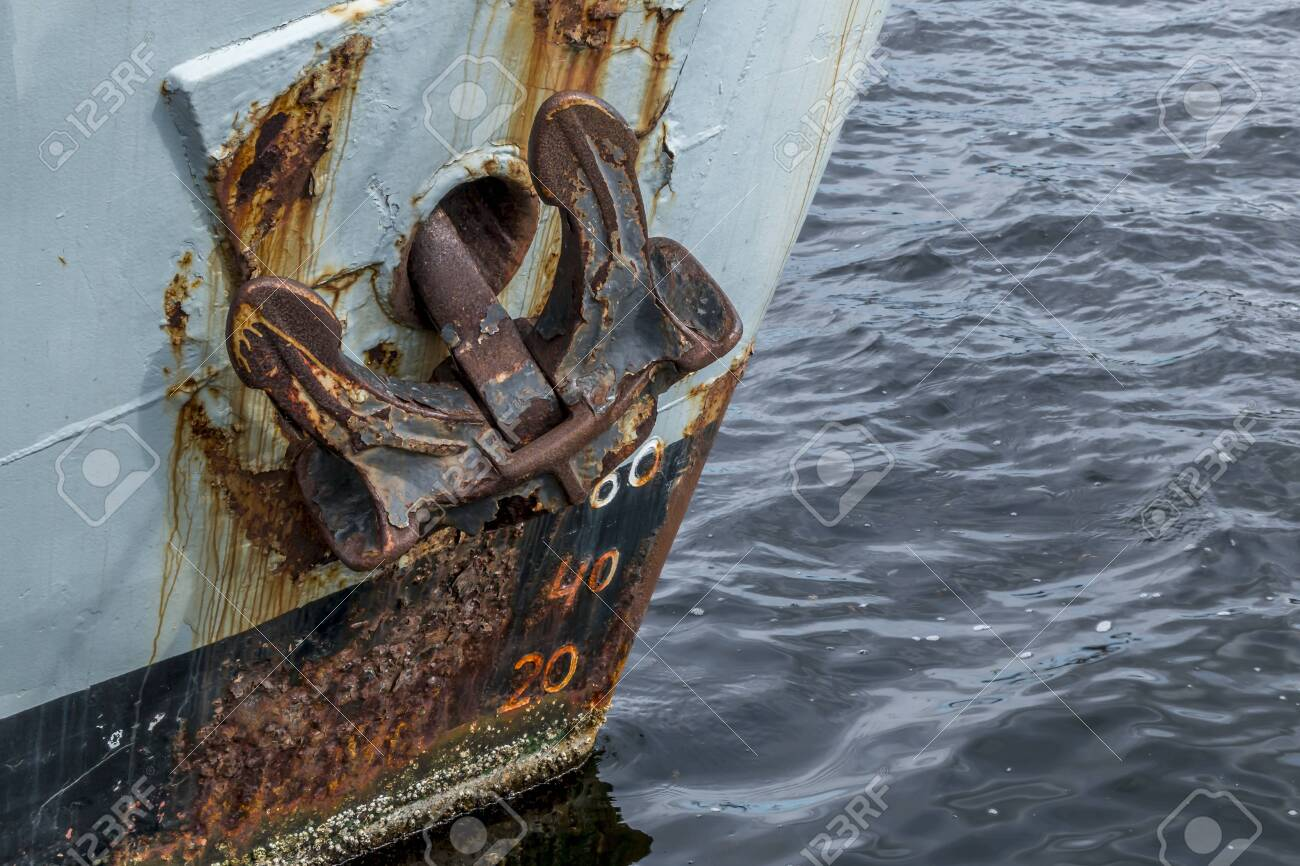rust: (221, 652, 386, 819), (425, 527, 525, 736), (190, 435, 298, 572), (214, 98, 328, 225), (515, 2, 648, 90)
